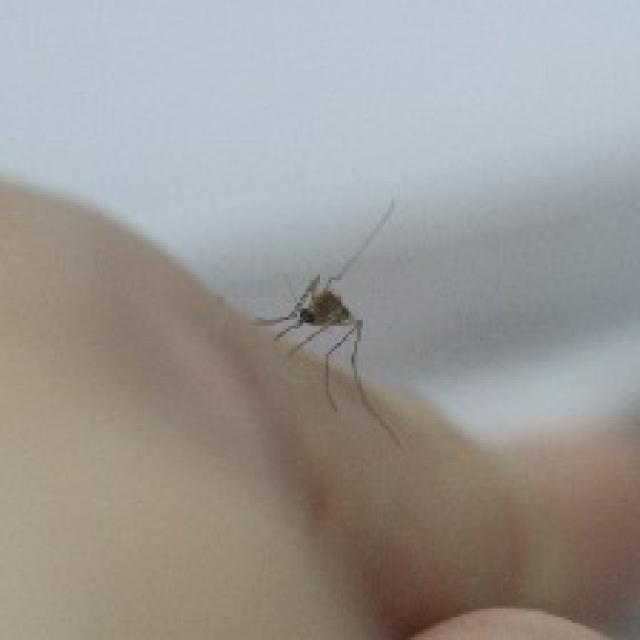culex: (248, 194, 403, 446)
